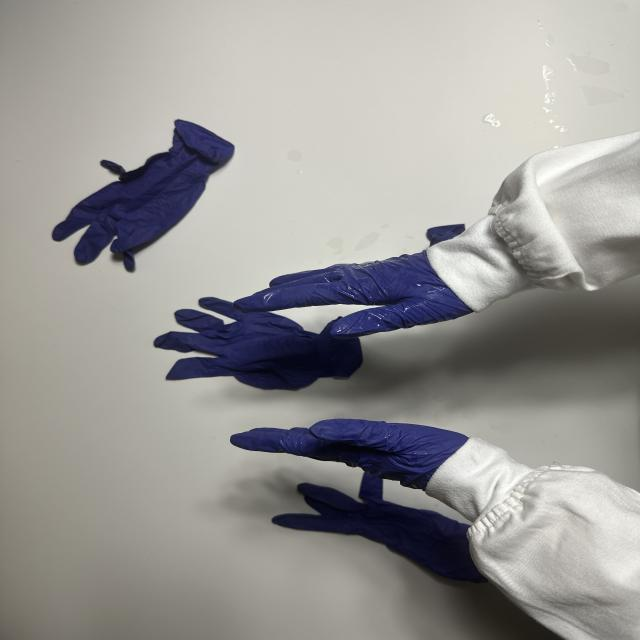gloves_contaminated: (233, 251, 472, 338), (231, 418, 468, 489)
